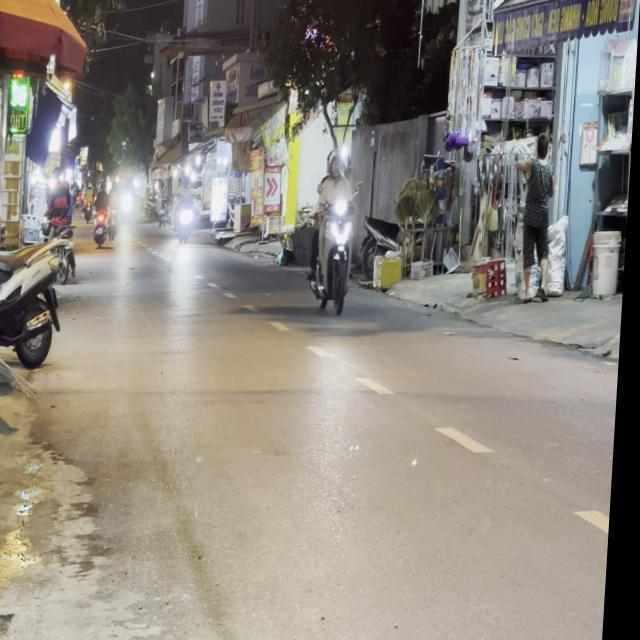helmet: (331, 148, 347, 178)
licenseplate: (309, 146, 364, 314)
